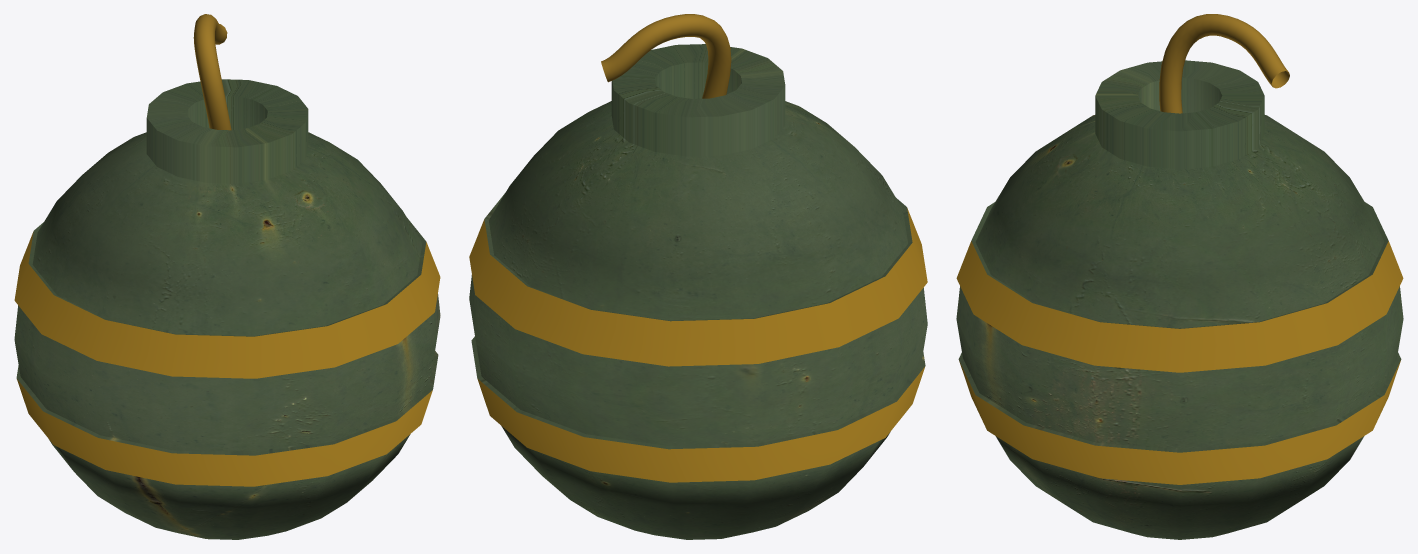
File: Bomb.fbx
3 views of the same model, side by side, from view 1: azimuth 30°, elevation 25°; view 2: azimuth 150°, elevation 25°; view 3: azimuth 270°, elevation 25° (orthographic). The views are drawn at different scales.
Visible parts, largest first — view 1: Bomb, BombRope; view 2: Bomb, BombRope; view 3: Bomb, BombRope.
Part boxes in pixels (<box>): Bomb: <box>14,79,440,539</box>; BombRope: <box>193,14,231,130</box>; Bomb: <box>469,44,927,539</box>; BombRope: <box>601,14,731,98</box>; Bomb: <box>956,60,1403,539</box>; BombRope: <box>1159,14,1289,113</box>.
Size of the model in its own units: 80.8 by 100 by 80.8.
3 materials, 1 textured.
